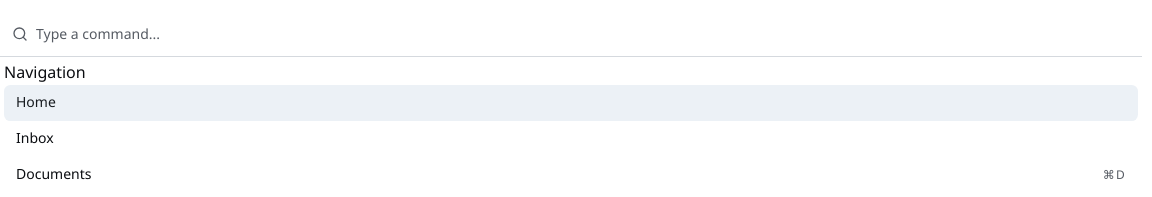
Test: Command › shows the empty state only when nothing matches
Expected: the text "No results found." is not shown
Type "zzzzz" into the dropdown with placeholder "Type a command...". click: (583, 34)
box: [36,12,1130,56]
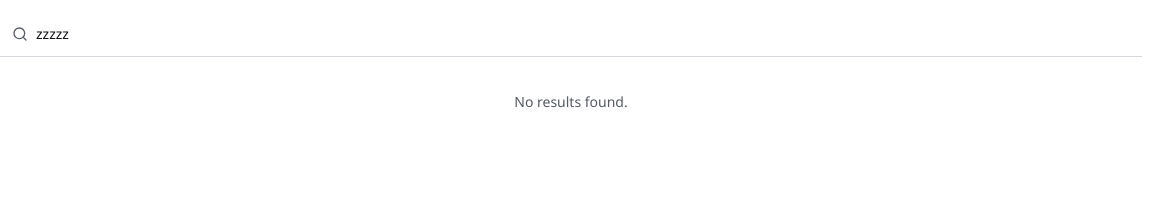
Result: the text "No results found." is shown at [514,92,628,113]
Result: no options are shown
